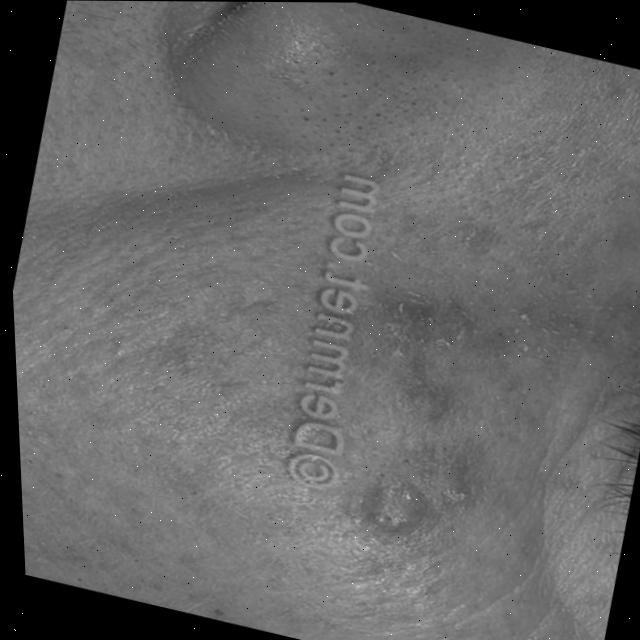Rosacea: (248, 263, 535, 575)
